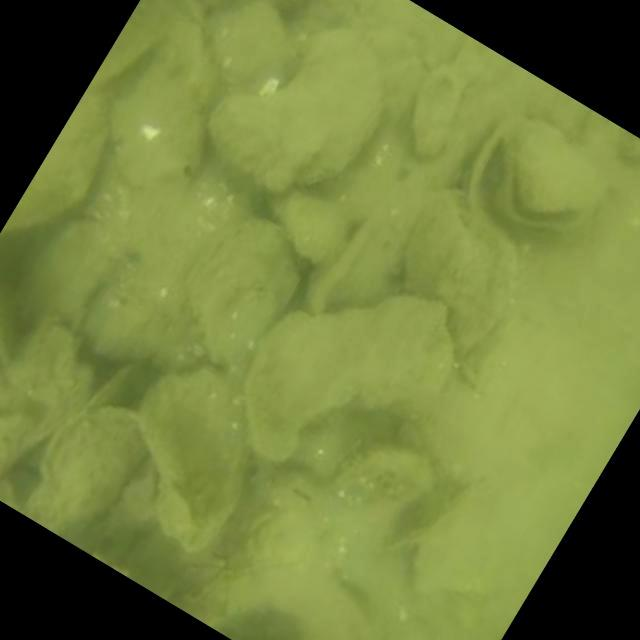Oyster-Closed: (242, 295, 459, 461), (200, 63, 384, 189), (135, 361, 253, 557), (397, 186, 524, 361), (185, 212, 299, 373), (23, 402, 146, 535), (323, 434, 430, 530)
Oyster-Open: (494, 118, 609, 236), (0, 388, 54, 482)
